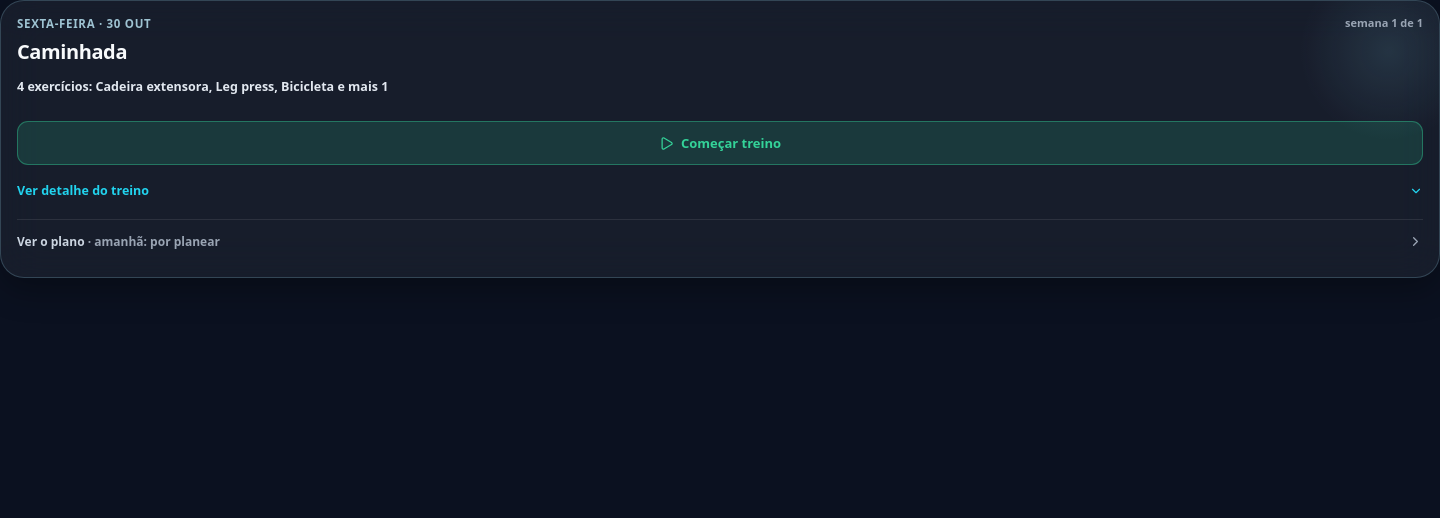
Test: DayPlanCard (O que faço hoje) — exercícios do ginásio › o resumo alterna a gaveta (aria-expanded) e fecha-a ao segundo toque
Click the button with test id "day-plan-exercicios-resumo": (203, 86) [17,65,1423,109]
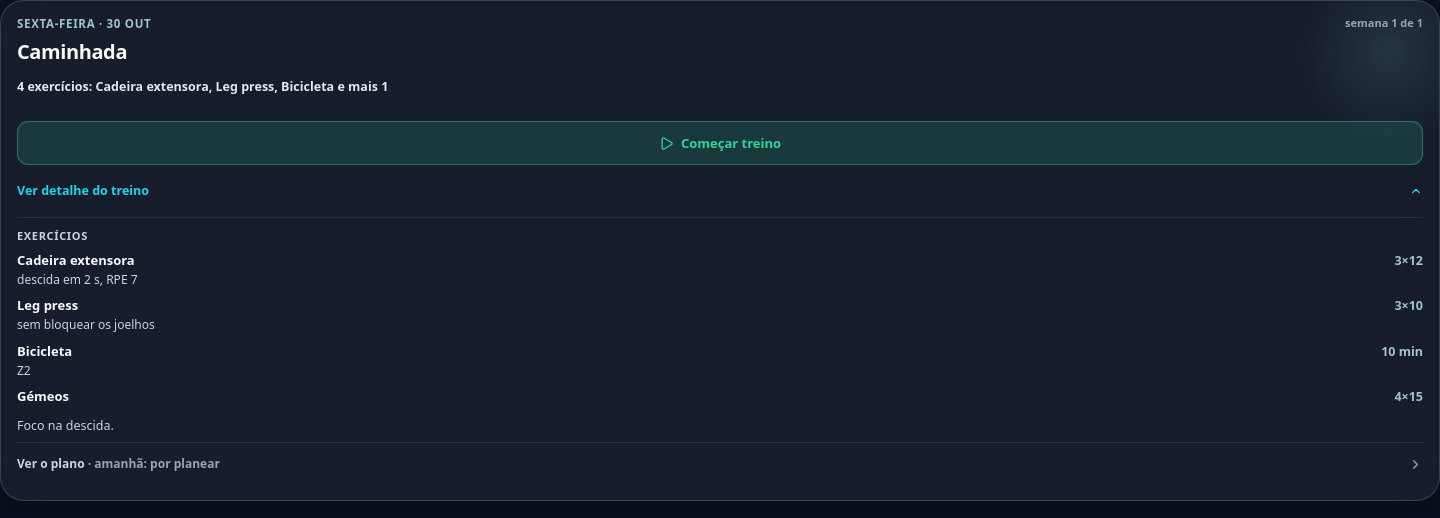
Click the button with test id "day-plan-exercicios-resumo": (203, 86) [17,65,1423,109]
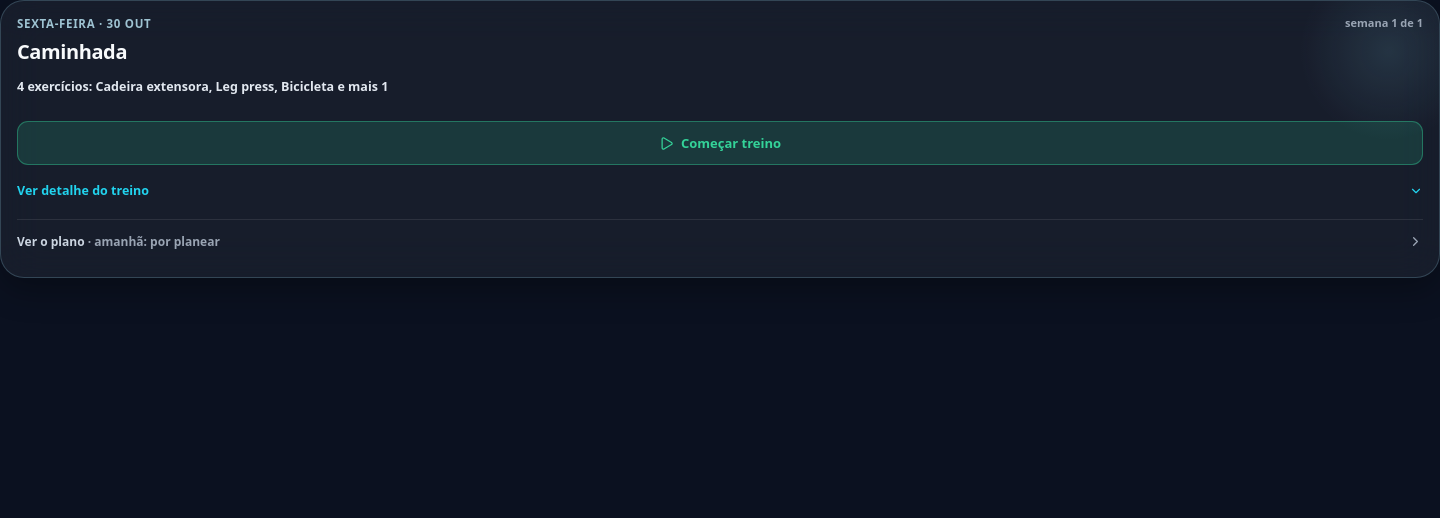
Result: the element with test id "day-plan-detail" is gone
